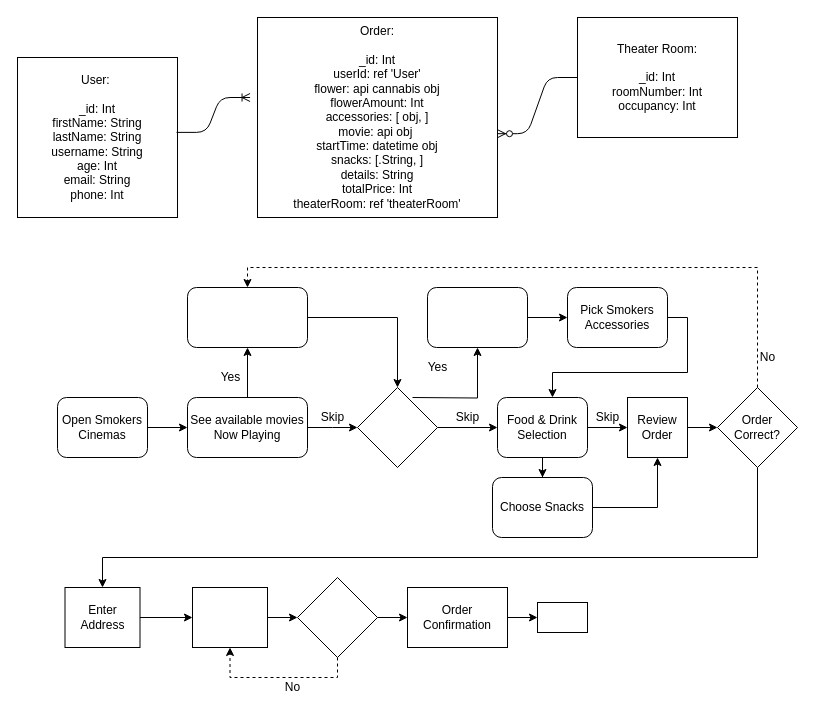
This 815x715 diagram has some shape labels left out. The shapes that lost their labels are listed below. From the top down, each one's centre as x and y in pixels, then its label:
At (247,317): "Choose Movie and Start Time".
At (477,317): "Choose Favorite Strain/s".
At (397,427): "Cannabis Selection?".
At (230,617): "Enter Card Details".
At (337,617): "Card Works".
At (562,617): "End".
